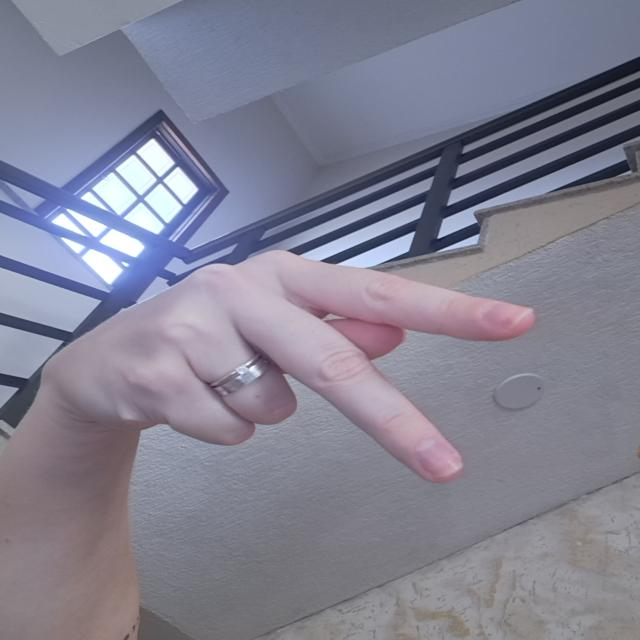P: (52, 245, 557, 482)
